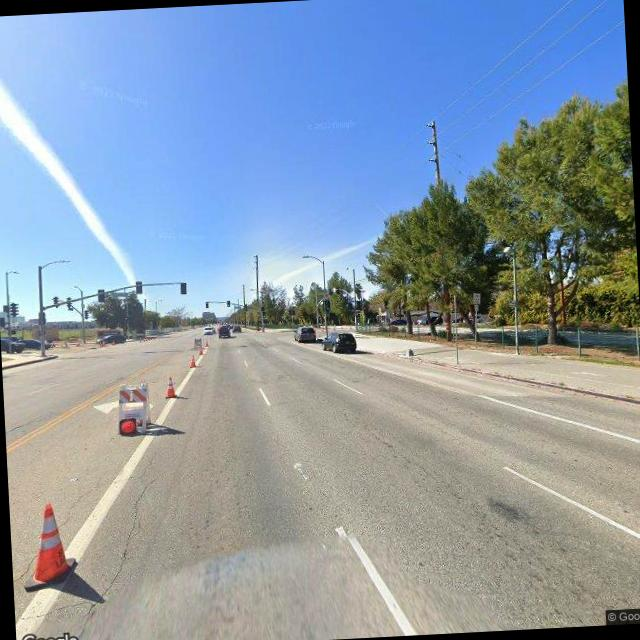crack: (82, 460, 164, 626), (46, 488, 90, 542), (12, 547, 40, 583)
